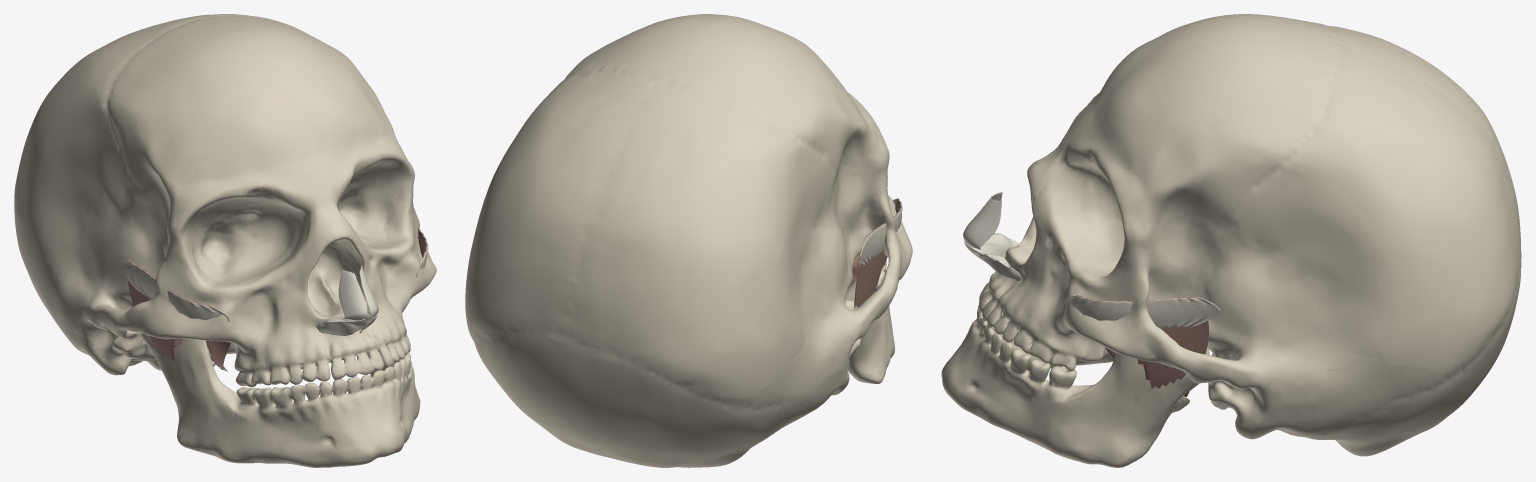
File: female-bone.glb
3 renders of one model, left to right at view 1: azimuth 30°, elevation 25°; view 2: azimuth 150°, elevation 25°; view 3: azimuth 270°, elevation 25°, orthographic. The views are drawn at different scales.
Visible parts, largest first — view 1: female-illustrative-bone, Zygomatic aponeurosis -1, Masseter -1, Upper lateral cartilage -1, Alar cartilage -1; view 2: female-illustrative-bone, Masseter -1, Zygomatic aponeurosis -1; view 3: female-illustrative-bone, Zygomatic aponeurosis 1, Masseter 1, Upper lateral cartilage 1, Alar cartilage 1, Alar cartilage -1.
Boxes of the visible parts, x1,y1,x2,y2 form: female-illustrative-bone: [14, 14, 436, 467]; Zygomatic aponeurosis -1: [117, 260, 229, 321]; Masseter -1: [128, 260, 230, 369]; Upper lateral cartilage -1: [338, 270, 367, 320]; Alar cartilage -1: [316, 316, 366, 335]; female-illustrative-bone: [465, 14, 912, 467]; Masseter -1: [850, 198, 901, 307]; Zygomatic aponeurosis -1: [859, 198, 902, 264]; female-illustrative-bone: [941, 14, 1521, 467]; Zygomatic aponeurosis 1: [1064, 295, 1220, 328]; Masseter 1: [1076, 295, 1209, 397]; Upper lateral cartilage 1: [963, 199, 1001, 249]; Alar cartilage 1: [964, 241, 1021, 280]; Alar cartilage -1: [971, 233, 1018, 258].
Size of the model in its own units: 0.1481 by 0.166 by 0.2228.
